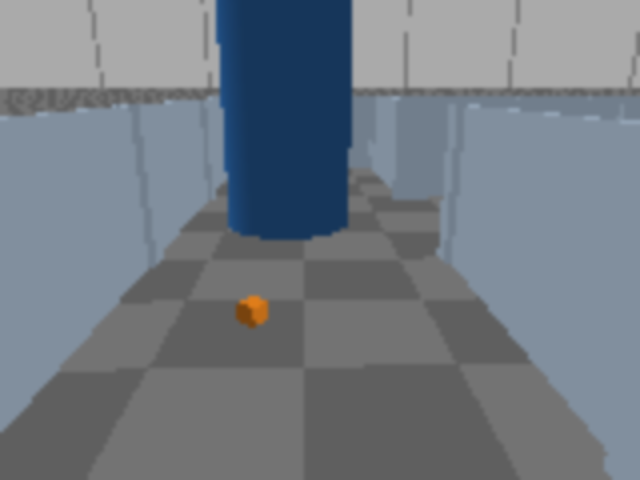puck: (237, 295, 269, 328)
